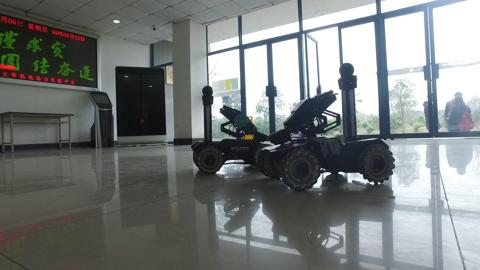chariot: (262, 61, 396, 193), (189, 84, 288, 176)
